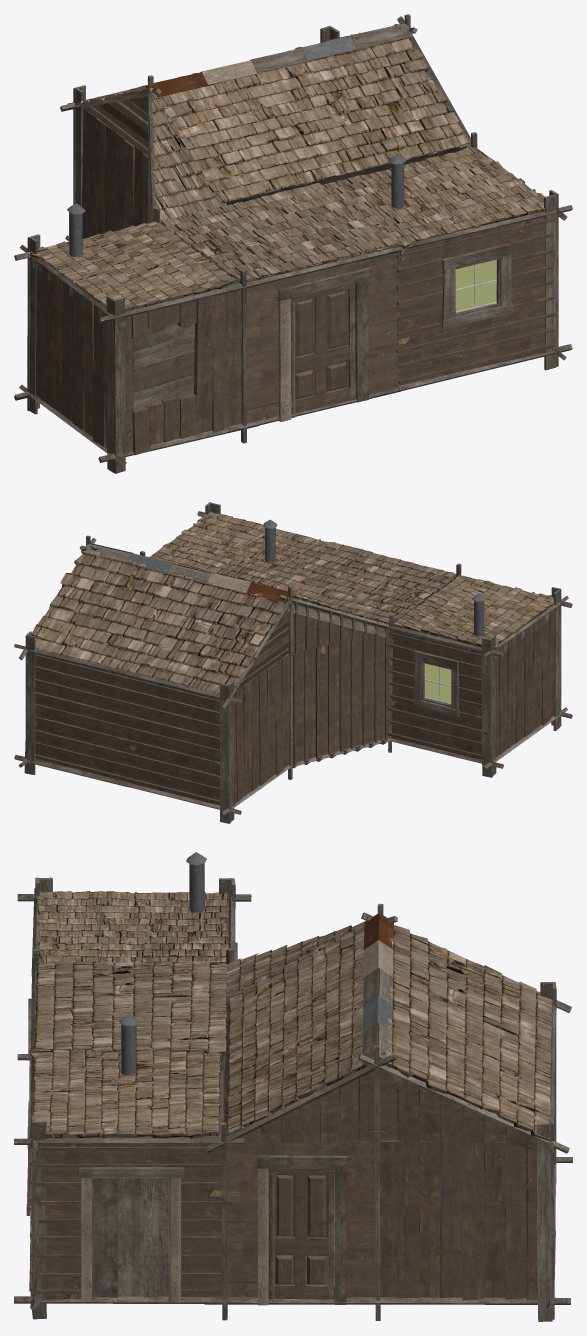
Rendered from house2.glb.
3 renders of one model, top to bottom at view 1: azimuth 30°, elevation 25°; view 2: azimuth 150°, elevation 25°; view 3: azimuth 270°, elevation 25°, orthographic. The views are drawn at different scales.
Visible parts, largest first — view 1: Cube; view 2: Cube; view 3: Cube.
Boxes of the visible parts, x1,y1,x2,y2 form: Cube: [14, 14, 572, 473]; Cube: [14, 502, 572, 823]; Cube: [14, 852, 572, 1321].
Bounding box in the file's own units: 7.08 × 3.45 × 6.38.
Materials: 2 (1 with a texture image).
